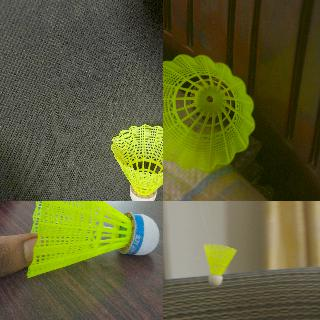shuttlecock: (163, 55, 255, 172), (26, 201, 158, 276), (110, 124, 162, 200), (202, 244, 235, 286)
